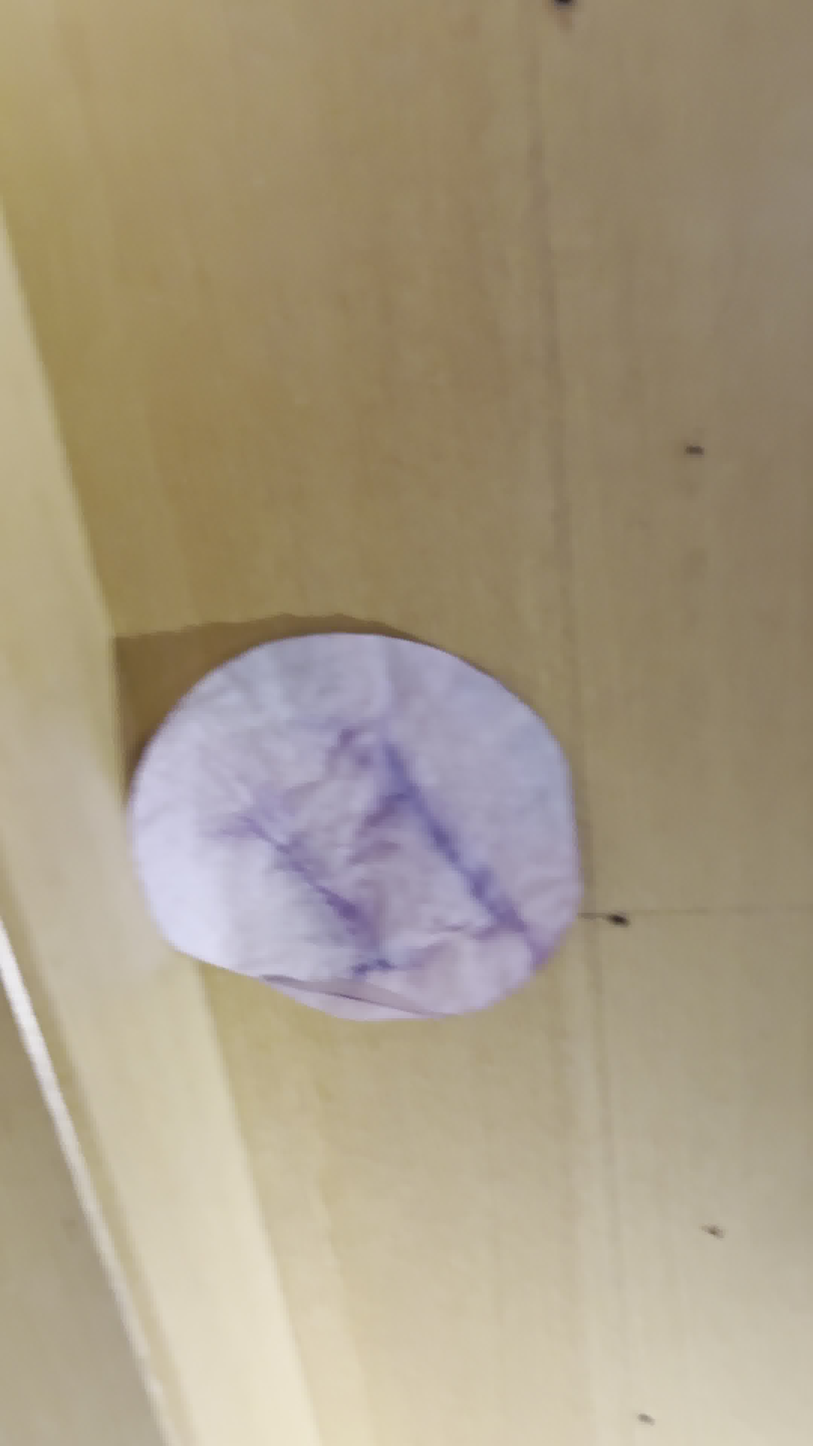Target: (128, 636, 583, 1019)
